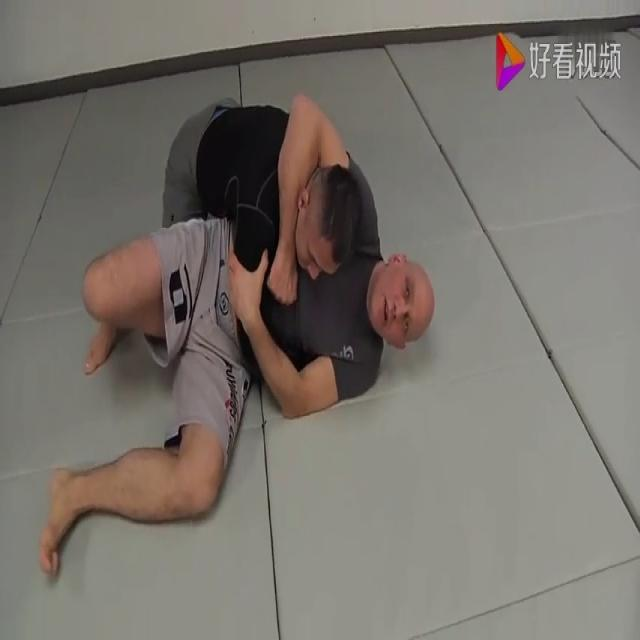fight: (38, 90, 437, 580), (155, 93, 355, 387)
